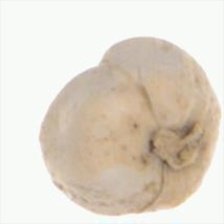L4: (40, 37, 220, 216)
